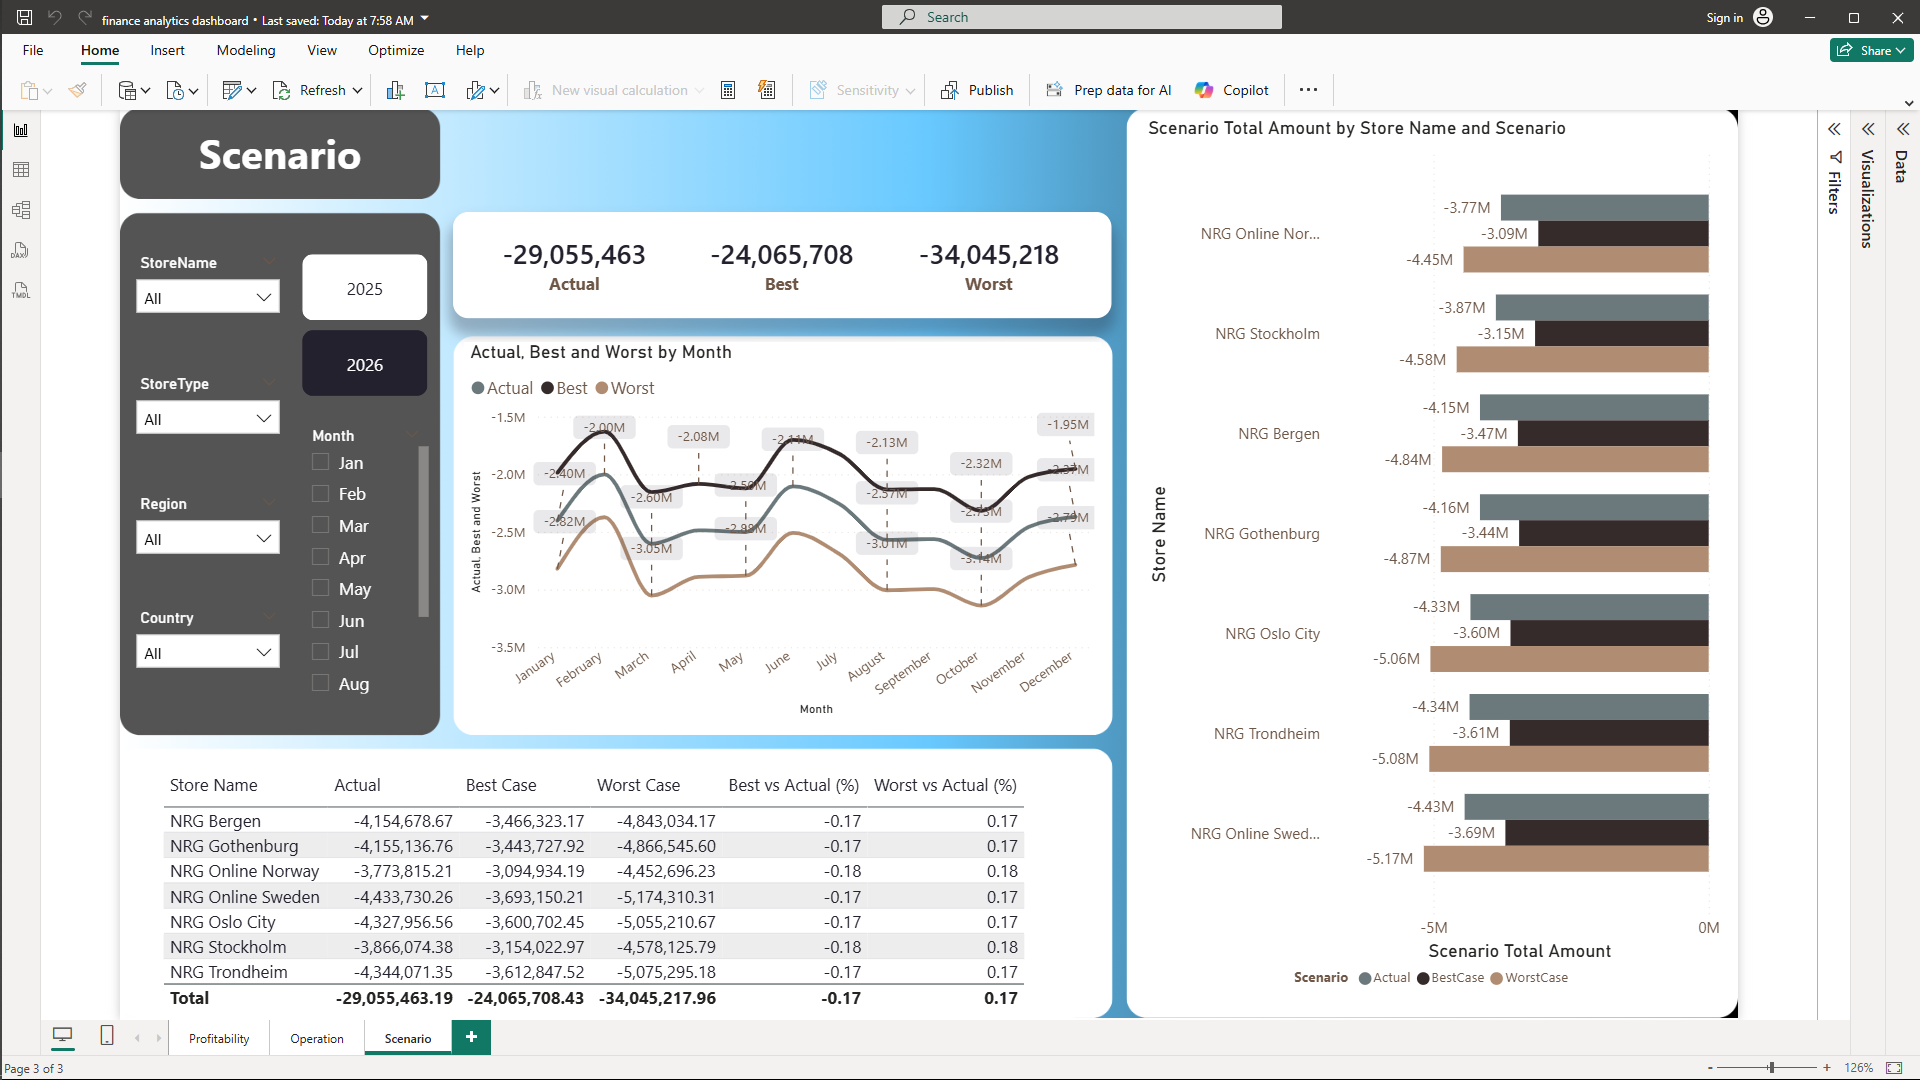

The page's visual inventory and layout, read from the dashboard file:
{"tool":"powerbi","page":{"name":"Scenario","canvas":[1280,720],"ordinal":2},"visuals":[{"type":"cardVisual","fields":{"Data":["_Measures.Scenario Total Amount (Actual)","_Measures.Scenario Total Amount (Best Case)","_Measures.Scenario Total Amount (Worst Case)"]},"box":[263.7,80.4,520.7,83.7],"z":0},{"type":"lineChart","fields":{"Y":["_Measures.Scenario Total Amount (Actual)","_Measures.Scenario Total Amount (Best Case)","_Measures.Scenario Total Amount (Worst Case)"],"Category":["dim_date.Date.Variation.Date Hierarchy.Year","dim_date.Date.Variation.Date Hierarchy.Quarter","dim_date.Date.Variation.Date Hierarchy.Month","dim_date.Date.Variation.Date Hierarchy.Day"]},"box":[272.5,183.3,503.7,300.7],"z":1000},{"type":"clusteredBarChart","fields":{"Category":["dim_stores.StoreName"],"Y":["_Measures.Scenario Total Amount"],"Series":["fact_scenario_gl_transactions.Scenario"]},"box":[808.2,6.6,462.4,698.3],"z":2000},{"type":"tableEx","fields":{"Values":["dim_stores.StoreName","_Measures.Scenario Total Amount (Actual)","_Measures.Scenario Total Amount (Best Case)","_Measures.Scenario Total Amount (Worst Case)","_Measures.Best vs Actual (%)","_Measures.Worst vs Actual (%)"]},"box":[28.2,518.8,726.5,201.1],"z":3000},{"type":"textbox","box":[15,6.6,223.7,61.1],"z":4000},{"type":"slicer","fields":{"Values":["dim_stores.Country"]},"box":[3.5,389.9,132.8,82.8],"z":5000},{"type":"slicer","fields":{"Values":["dim_stores.Region"]},"box":[3.5,300.2,132.8,81.1],"z":6000},{"type":"slicer","fields":{"Values":["dim_stores.StoreType"]},"box":[3.5,205.3,132.8,81.1],"z":7000},{"type":"slicer","fields":{"Values":["dim_stores.StoreName"]},"box":[3.5,109.5,132.8,81.1],"z":8000},{"type":"slicer","fields":{"Values":["dim_date.Month (Short)"]},"box":[139,246.1,109.7,226.9],"z":9000},{"type":"advancedSlicerVisual","fields":{"Values":["dim_date.Date.Variation.Date Hierarchy.Year"]},"box":[138.9,109.5,109.5,123.3],"z":10000}]}

Visuals, with their boxes on the page's 1280x720 design canvas (x1, y1, x2, y2). These are canvas units, not pixel positions in the 1920x1080 screenshot, which may show the page scaled, cropped or inside an application window:
cardVisual - _Measures.Scenario Total Amount (Actual) x _Measures.Scenario Total Amount (Best Case): region(264, 80, 784, 164)
lineChart - _Measures.Scenario Total Amount (Actual) x _Measures.Scenario Total Amount (Best Case): region(272, 183, 776, 484)
clusteredBarChart - dim_stores.StoreName x _Measures.Scenario Total Amount: region(808, 7, 1271, 705)
tableEx - dim_stores.StoreName x _Measures.Scenario Total Amount (Actual): region(28, 519, 755, 720)
textbox: region(15, 7, 239, 68)
slicer - dim_stores.Country: region(4, 390, 136, 473)
slicer - dim_stores.Region: region(4, 300, 136, 381)
slicer - dim_stores.StoreType: region(4, 205, 136, 286)
slicer - dim_stores.StoreName: region(4, 110, 136, 191)
slicer - dim_date.Month (Short): region(139, 246, 249, 473)
advancedSlicerVisual - dim_date.Date.Variation.Date Hierarchy.Year: region(139, 110, 248, 233)
